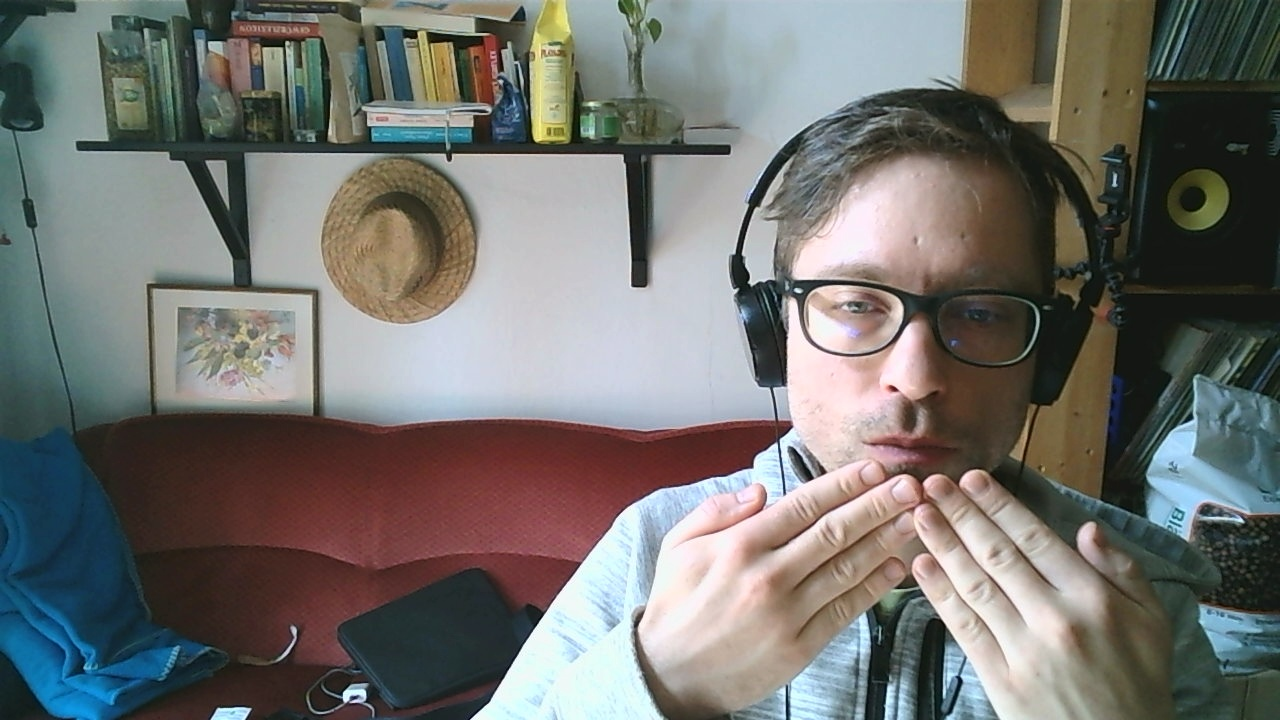thanks: (645, 454, 1174, 720)
